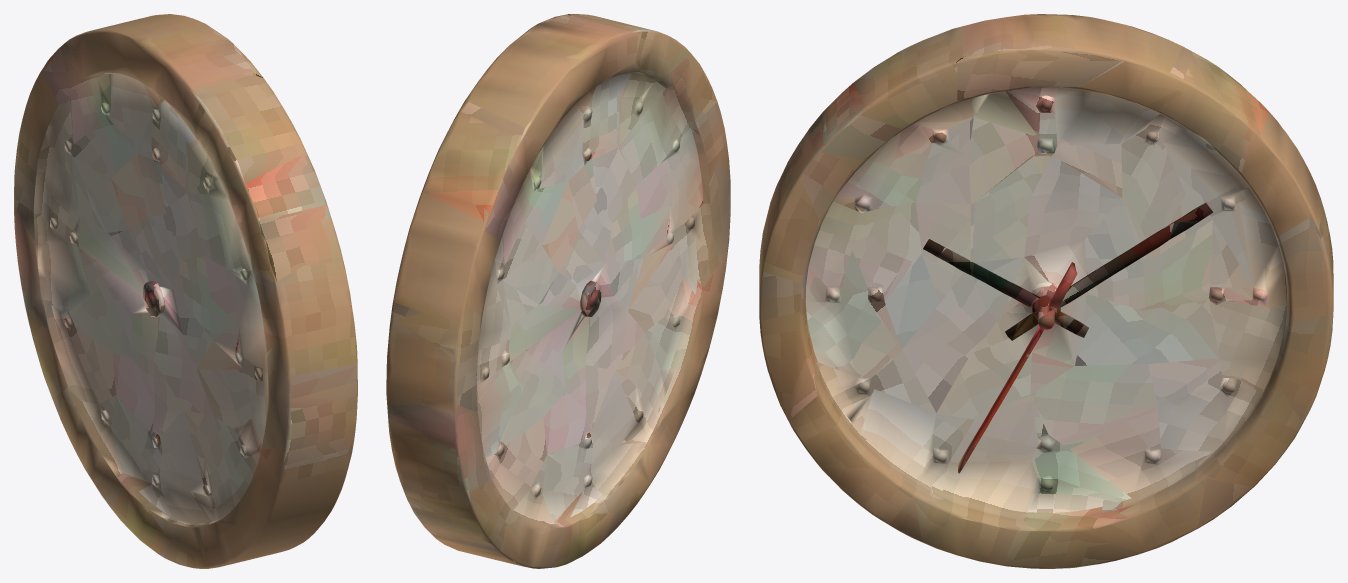
Rendered from KR_사물_s1_office_clock.glb.
3 renders of one model, left to right at view 1: azimuth 30°, elevation 25°; view 2: azimuth 150°, elevation 25°; view 3: azimuth 270°, elevation 25°, orthographic. The views are drawn at different scales.
Parts seen in each view (by area): view 1: tripo_node_915b2da8-ebb4-4173-a435-bb79946f32a1; view 2: tripo_node_915b2da8-ebb4-4173-a435-bb79946f32a1; view 3: tripo_node_915b2da8-ebb4-4173-a435-bb79946f32a1.
Boxes of the visible parts, x1,y1,x2,y2 form: tripo_node_915b2da8-ebb4-4173-a435-bb79946f32a1: (14,14,357,568); tripo_node_915b2da8-ebb4-4173-a435-bb79946f32a1: (386,14,730,568); tripo_node_915b2da8-ebb4-4173-a435-bb79946f32a1: (759,14,1333,568).
Bounding box in the file's own units: 0.2047 × 0.9998 × 0.9978.
1 material, 1 textured.
